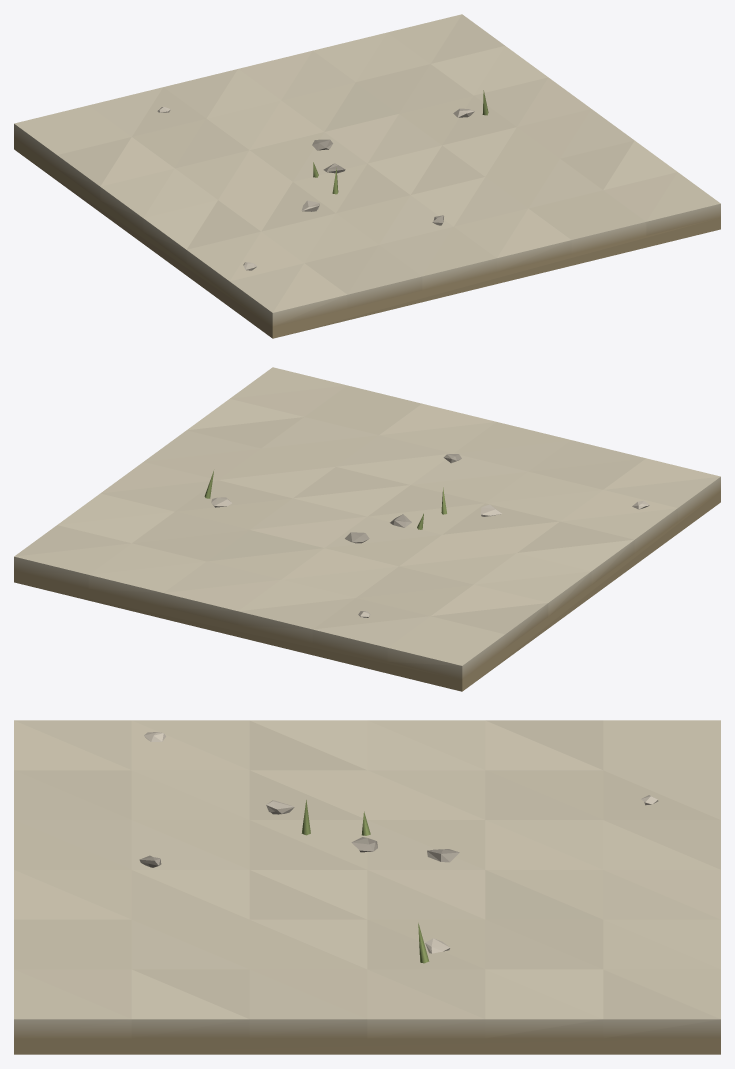
The model's file is beach-sand-tile.glb.
The picture shows the model from 3 angles, top to bottom: view 1: azimuth 30°, elevation 25°; view 2: azimuth 150°, elevation 25°; view 3: azimuth 270°, elevation 25°; orthographic projection. The views are drawn at different scales.
Parts seen in each view (by area): view 1: beach_sand_tile; view 2: beach_sand_tile; view 3: beach_sand_tile.
Part boxes in pixels (bbox=[...]): beach_sand_tile: bbox=[14, 14, 720, 338]; beach_sand_tile: bbox=[14, 367, 720, 691]; beach_sand_tile: bbox=[14, 720, 720, 1054].
Size of the model in its own units: 4 by 0.4578 by 4.
